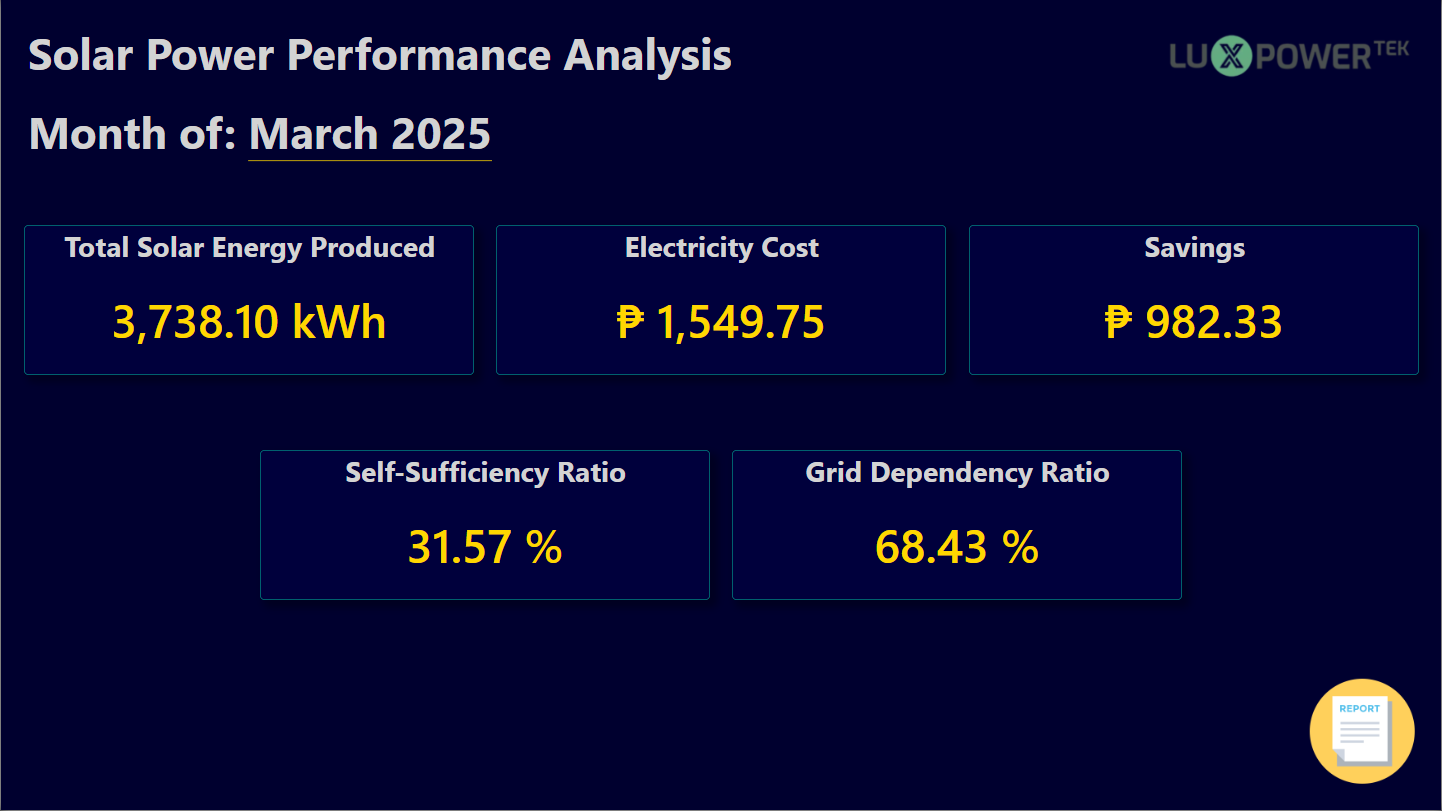

This screenshot's page, from the dashboard's own definition file:
{"tool":"powerbi","page":{"name":"Home Page","canvas":[1920,1080],"ordinal":0},"visuals":[{"type":"textbox","box":[30,25,1300,90],"z":0},{"type":"image","box":[1740,900,150,150],"z":1000},{"type":"card","title":"Total Solar Energy Produced","fields":{"Values":["luxpower._Total_Solar_Energy_Produced_Text"]},"box":[30,300.3,600,200.2],"z":2000},{"type":"card","title":"Electricity Cost","fields":{"Values":["luxpower._Monthly_Electricity_Cost_Text"]},"box":[660,300,600,200],"z":3000},{"type":"card","title":"Savings","fields":{"Values":["luxpower._Monthly_Savings_Text"]},"box":[1290,300,600,200],"z":4000},{"type":"card","title":"Self-Sufficiency Ratio","fields":{"Values":["luxpower._Self_Sufficiency_Ratio_Text"]},"box":[345,600,600,200],"z":5000},{"type":"card","title":"Grid Dependency Ratio","fields":{"Values":["luxpower._Grid_Dependency_Ratio_Text"]},"box":[975,600,600,200],"z":6000},{"type":"image","box":[1545.6,0,344.2,146.7],"z":7000},{"type":"textbox","box":[30.2,130,1300.1,90],"z":8000}]}

Visuals, with their boxes in screenshot pixels (x1, y1, x2, y2), scaled from the page's 1920x1080 canvas onto the 1442x811 screenshot:
textbox: [23,19,999,86]
image: [1307,676,1419,788]
"Total Solar Energy Produced" card: [23,226,473,376]
"Electricity Cost" card: [496,225,946,375]
"Savings" card: [969,225,1419,375]
"Self-Sufficiency Ratio" card: [259,451,710,601]
"Grid Dependency Ratio" card: [732,451,1183,601]
image: [1161,0,1419,110]
textbox: [23,98,999,165]
